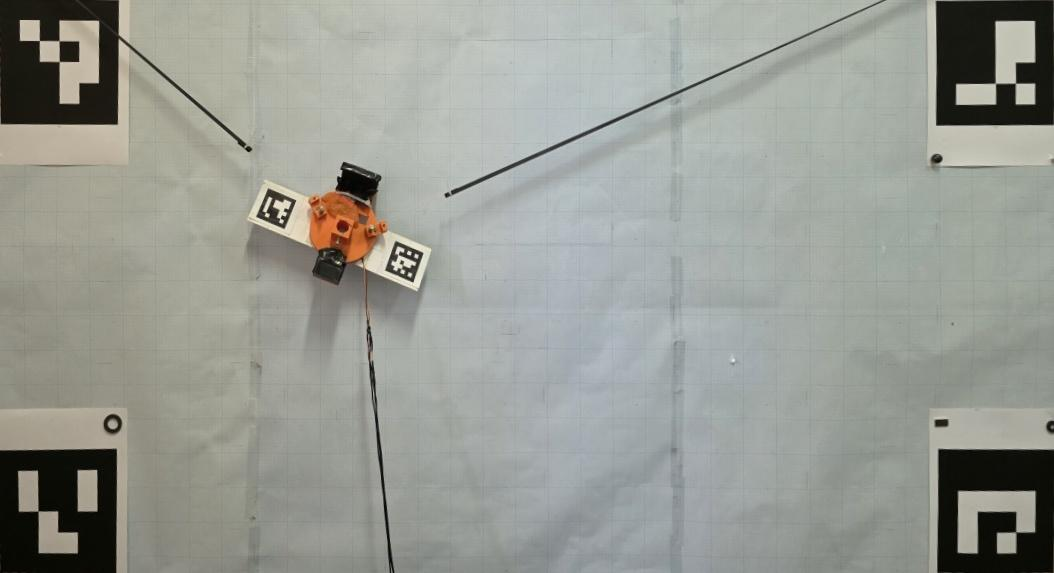robot: (308, 162, 388, 286)
